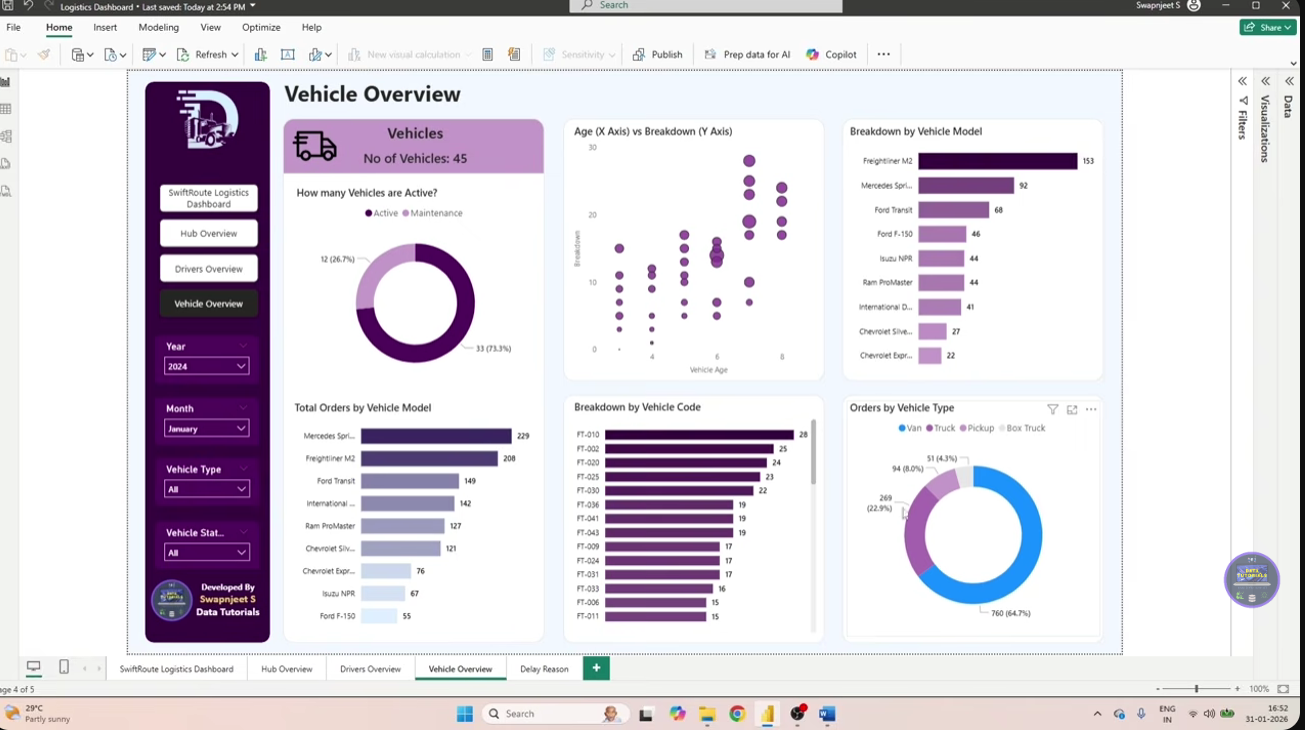

Layout of this report page (visuals, bound fields, positions):
{"tool":"powerbi","page":{"name":"Vehicles Overview","canvas":[1920,1080],"ordinal":3},"visuals":[{"type":"shape","box":[22.7,25.5,221.1,1026.1],"z":0},{"type":"textbox","box":[281.6,25,549.7,56.8],"z":1000},{"type":"slicer","fields":{"Values":["Date Table.Year"]},"box":[52.2,538.3,161.6,90.7],"z":2000},{"type":"slicer","fields":{"Values":["Date Table.Month"]},"box":[52.2,636,161.6,73.7],"z":3000},{"type":"cardVisual","fields":{"Data":["Orders.Year Month Title"]},"box":[1423,36.9,465.6,45.4],"z":4000},{"type":"shape","box":[795,131.7,488.3,408.8],"z":5000},{"type":"shape","box":[290.7,97.7,463.3,956.2],"z":6000},{"type":"shape","box":[292,96.4,463.3,81.8],"z":7000},{"type":"cardVisual","fields":{"Data":["Vehicles.No of Vehicles"]},"box":[377,130.4,277.8,48.2],"z":8000},{"type":"textbox","box":[345.8,96.4,309,34],"z":9000},{"type":"donutChart","title":"How many vehicles are active","fields":{"Category":["Vehicles.Vehicle Status"],"Y":["CountNonNull(Vehicles.Vehicle ID)"]},"box":[306.6,179.4,431.5,390.7],"z":10000},{"type":"barChart","fields":{"Category":["Vehicles.Vehicle Model"],"Y":["Orders.Total Orders"]},"box":[306.6,570.1,431.5,465.6],"z":11000},{"type":"shape","box":[1374.1,642.8,488.3,408.8],"z":12000},{"type":"shape","box":[795,570.1,513.3,481.5],"z":13000},{"type":"shape","box":[1335.5,97.7,554.2,442.9],"z":14000},{"type":"scatterChart","title":"Age (X Axis) vs Breakdown (Y Axis)","fields":{"Size":["Sum(Vehicles.Breakdown)1"],"X":["Vehicles.Vehicle Age"],"Y":["Vehicles.Breakdown"]},"box":[795,97.7,513.3,440.6],"z":15000},{"type":"barChart","title":"Breakdown by Vehicle Code","fields":{"Category":["Vehicles.Vehicle Code"],"Y":["Sum(Vehicles.Breakdown)"]},"box":[804,574.6,479.2,477],"z":16000},{"type":"barChart","title":"Breakdown by Vehicle Model","fields":{"Category":["Vehicles.Vehicle Model"],"Y":["Sum(Vehicles.Breakdown)"]},"box":[1353.7,97.7,508.8,442.9],"z":17000},{"type":"donutChart","title":"Orders  by Vehicle Type","fields":{"Category":["Orders.Vehicle Type"],"Y":["Orders.Total Orders"]},"box":[1335.5,570.1,554.2,481.5],"z":18000},{"type":"pageNavigator","box":[29.5,218,204.4,270.3],"z":19000},{"type":"slicer","fields":{"Values":["Vehicles.Vehicle Status"]},"box":[52.2,708.6,161.6,73.7],"z":20000},{"type":"slicer","fields":{"Values":["Orders.Vehicle Type"]},"box":[50,804,161.3,81.8],"z":21000},{"type":"image","box":[683.2,96.4,70.9,73.7],"z":22000}]}

Visuals, with their boxes on the page's 1920x1080 design canvas (x1, y1, x2, y2). These are canvas units, not pixel positions in the 1305x730 screenshot, which may show the page scaled, cropped or inside an application window:
shape: crop(23, 26, 244, 1052)
textbox: crop(282, 25, 831, 82)
slicer - Date Table.Year: crop(52, 538, 214, 629)
slicer - Date Table.Month: crop(52, 636, 214, 710)
cardVisual - Orders.Year Month Title: crop(1423, 37, 1889, 82)
shape: crop(795, 132, 1283, 540)
shape: crop(291, 98, 754, 1054)
shape: crop(292, 96, 755, 178)
cardVisual - Vehicles.No of Vehicles: crop(377, 130, 655, 179)
textbox: crop(346, 96, 655, 130)
"How many vehicles are active" donutChart: crop(307, 179, 738, 570)
barChart - Vehicles.Vehicle Model x Orders.Total Orders: crop(307, 570, 738, 1036)
shape: crop(1374, 643, 1862, 1052)
shape: crop(795, 570, 1308, 1052)
shape: crop(1336, 98, 1890, 541)
"Age (X Axis) vs Breakdown (Y Axis)" scatterChart: crop(795, 98, 1308, 538)
"Breakdown by Vehicle Code" barChart: crop(804, 575, 1283, 1052)
"Breakdown by Vehicle Model" barChart: crop(1354, 98, 1862, 541)
"Orders  by Vehicle Type" donutChart: crop(1336, 570, 1890, 1052)
pageNavigator: crop(30, 218, 234, 488)
slicer - Vehicles.Vehicle Status: crop(52, 709, 214, 782)
slicer - Orders.Vehicle Type: crop(50, 804, 211, 886)
image: crop(683, 96, 754, 170)
